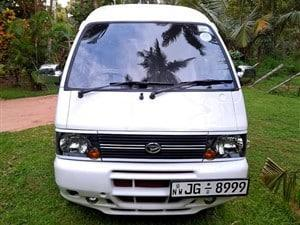license-plate: (170, 180, 248, 194)
